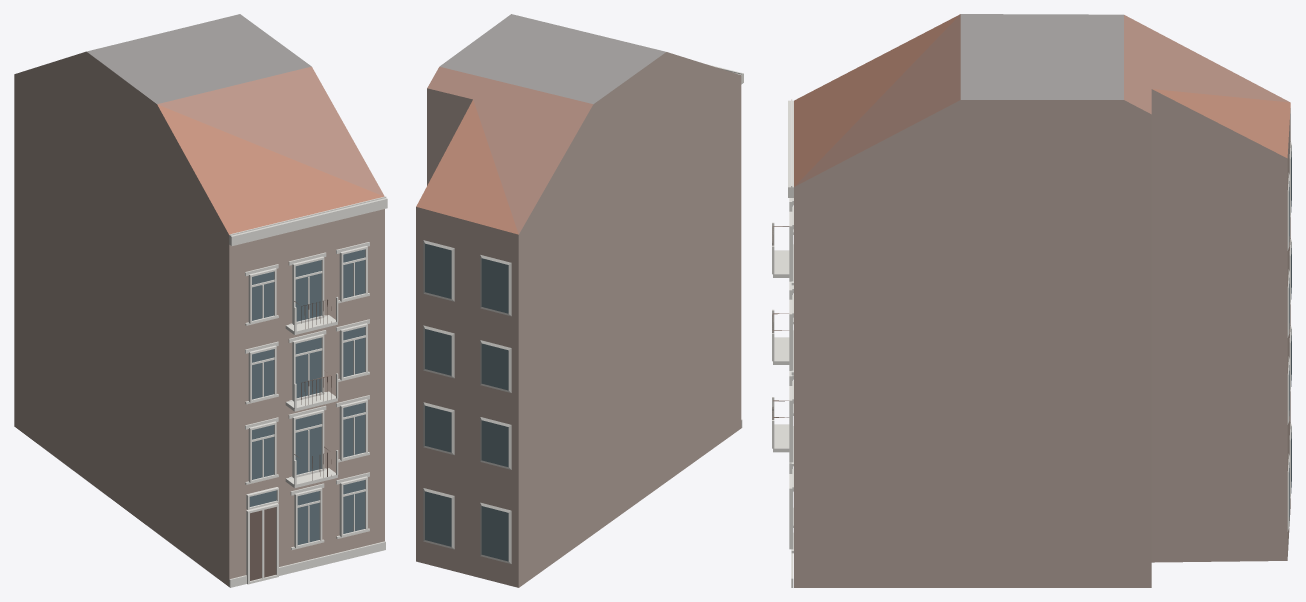
File: chunk-face-paardekraal-1-15-r1.lod2.glb
The picture shows the model from 3 angles, left to right: view 1: azimuth 30°, elevation 25°; view 2: azimuth 150°, elevation 25°; view 3: azimuth 270°, elevation 25°; orthographic projection. The views are drawn at different scales.
Visible parts, largest first — view 1: lod2; view 2: lod2; view 3: lod2.
Part boxes in pixels (x1,y1,x2,y2): lod2: [14, 14, 387, 587]; lod2: [416, 14, 743, 587]; lod2: [772, 14, 1291, 587].
Size of the model in its own units: 6.05 by 15.89 by 15.34.
